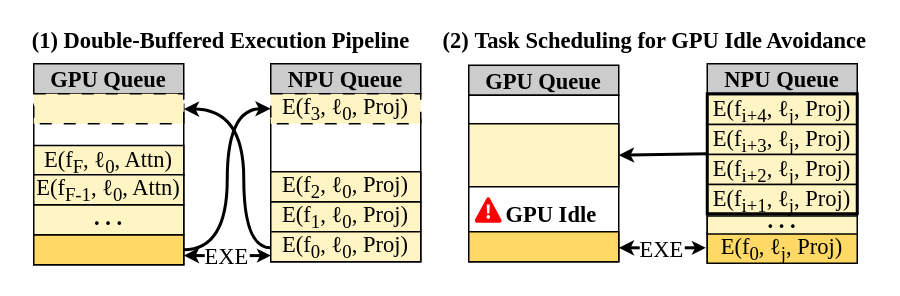
This 900x296 diagram has some shape labels left out. The shapes that lost their labels are listed below. From the top down, each one's box as (x1, y1, x2, y2) in pixels, then its label:
(32, 92, 184, 124): E(f 0 , ℓ 1 , Attn)
(467, 122, 619, 187): E(f 0 f 1 f 2 f 3 , ℓ j , Proj)
(32, 233, 184, 265): E(f 3 , ℓ 0 , Attn)
(467, 230, 619, 262): E(f i , ℓ j , Attn)
